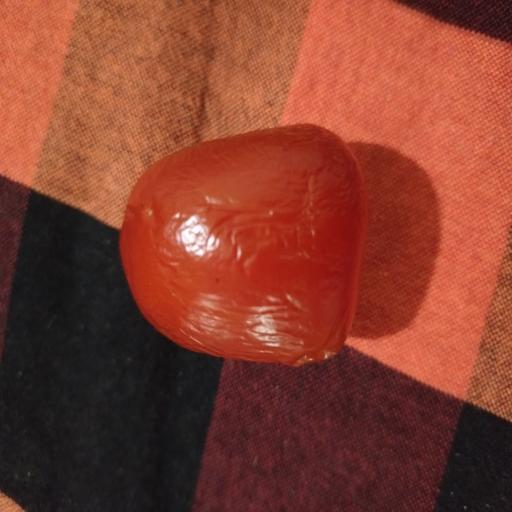spoiled: (120, 125, 367, 365)
